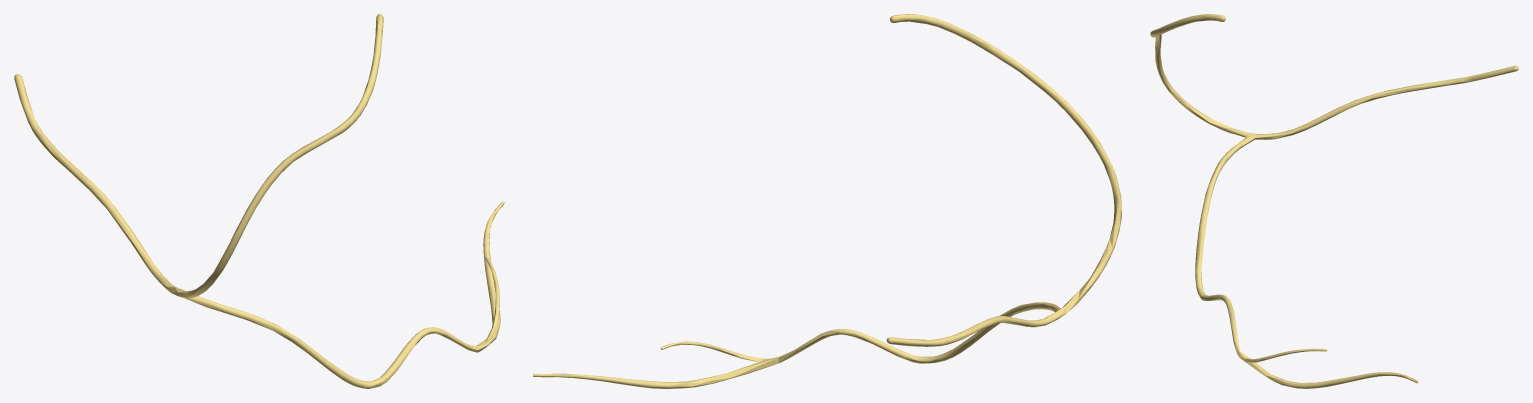
File: fma52969_fj3983.glb
3 renders of one model, left to right at view 1: azimuth 30°, elevation 25°; view 2: azimuth 150°, elevation 25°; view 3: azimuth 270°, elevation 25°, orthographic. The views are drawn at different scales.
Visible parts, largest first — view 1: FMA52969_FJ3983; view 2: FMA52969_FJ3983; view 3: FMA52969_FJ3983.
Part boxes in pixels (x1,y1,x2,y2): FMA52969_FJ3983: [14, 14, 504, 388]; FMA52969_FJ3983: [533, 14, 1121, 388]; FMA52969_FJ3983: [1150, 14, 1518, 388].
Size of the model in its own units: 0.0484 by 0.0399 by 0.0431.
